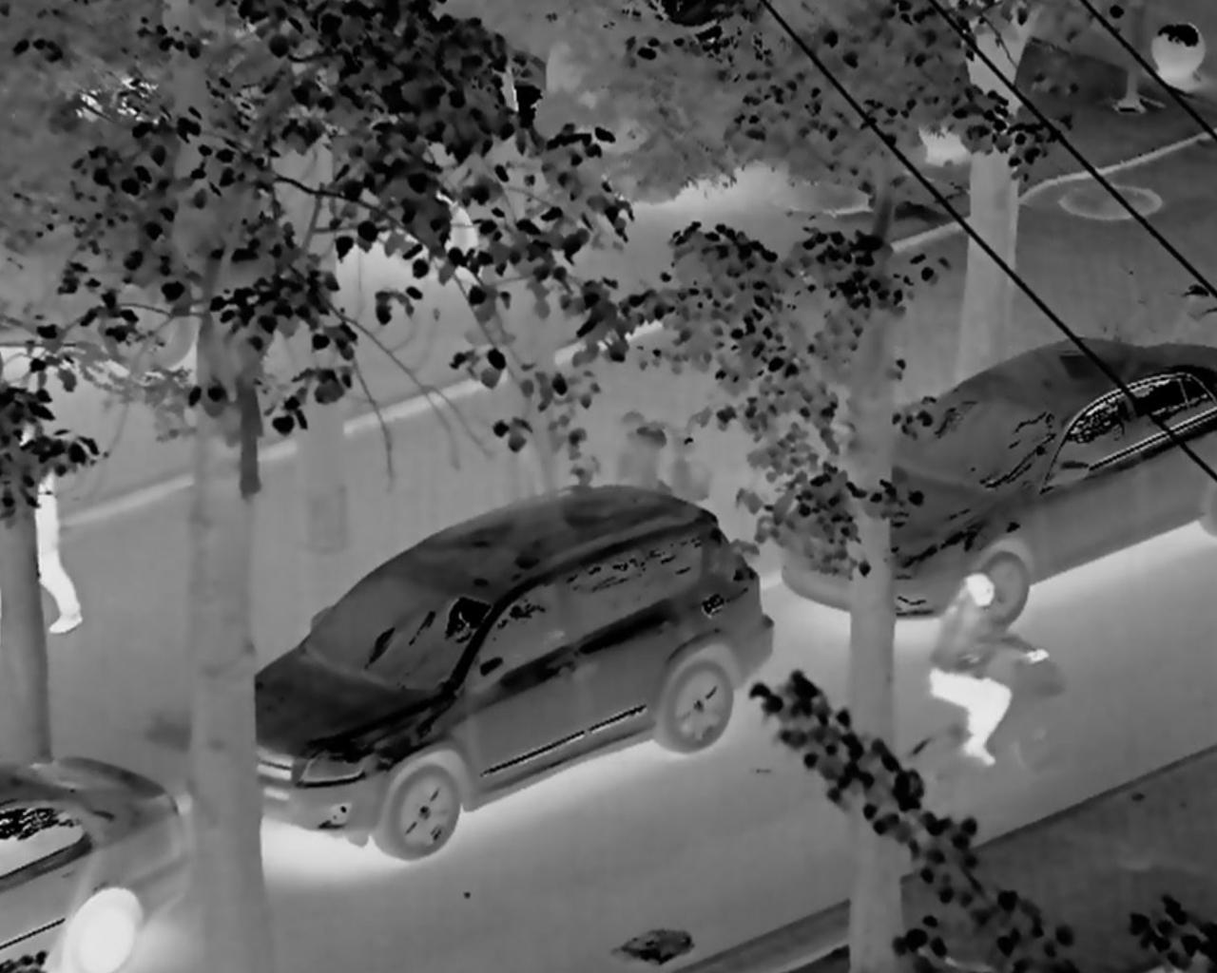person: (924, 570, 1048, 763), (32, 473, 87, 627)
